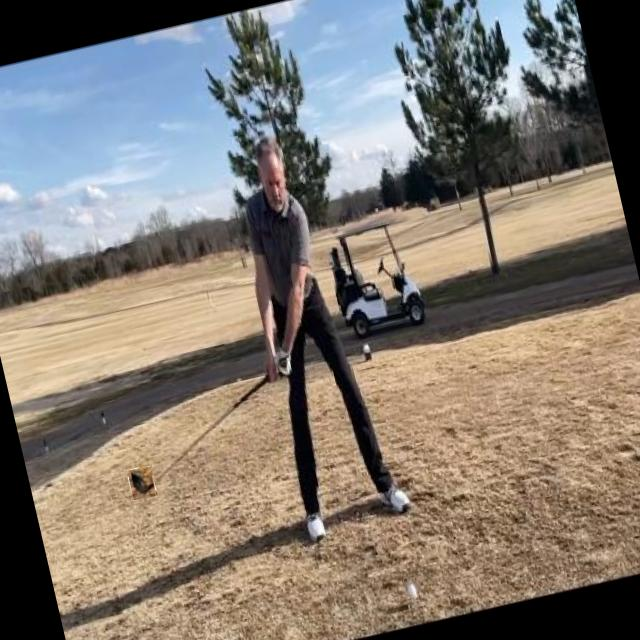club head: (126, 464, 158, 500)
